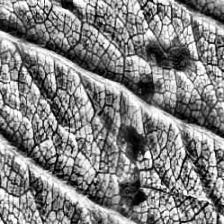Angular Leafspot: (0, 0, 202, 224)
